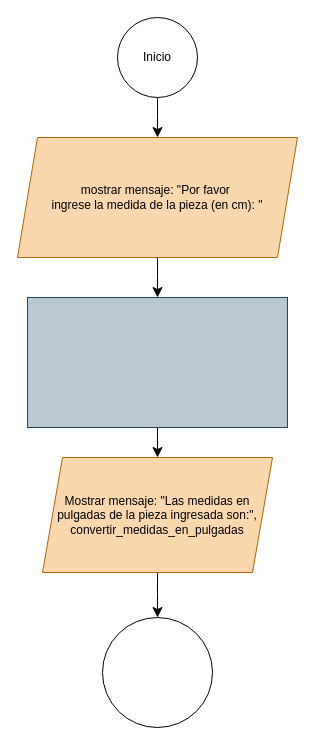
The diagram is 315 pixels wide and 745 high, and some of its shapes have lost their labels. Each missing label, with the box of its shape:
convertir_medidas_en_pulgadas = convertir_medidas_en_cms / 2.54: (26, 296, 288, 428)
Fin: (102, 616, 212, 728)
